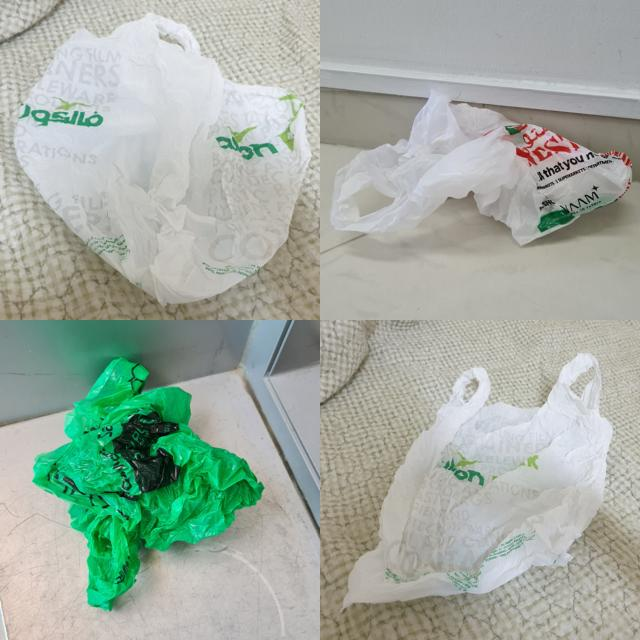Single-layer Plastic: (14, 14, 311, 305), (342, 354, 612, 608), (34, 359, 262, 610), (330, 91, 631, 245)
